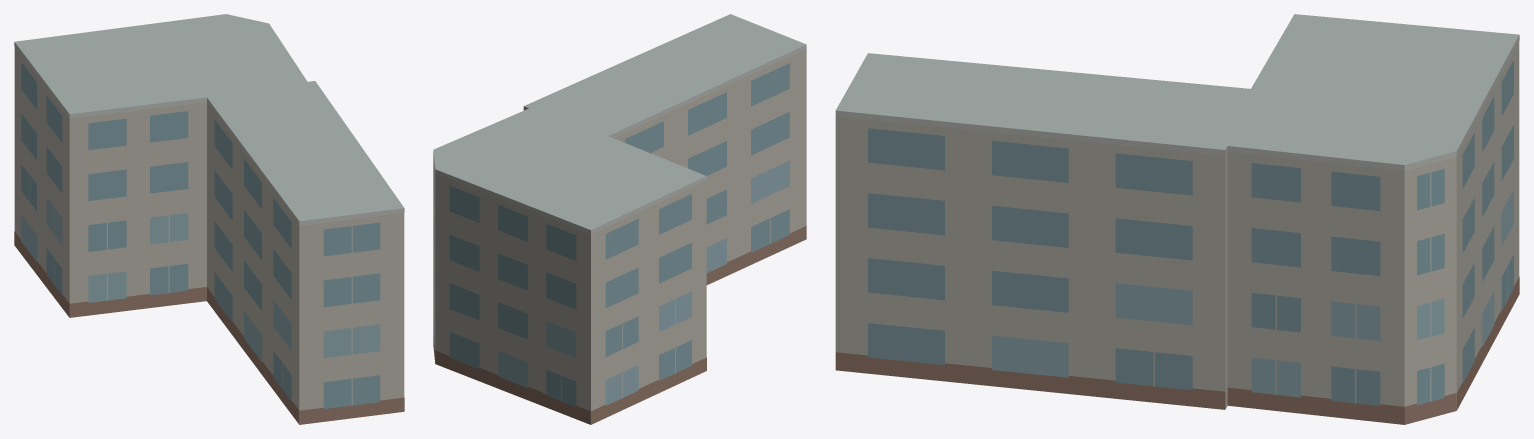
The model's file is survey-upis-32666739.glb.
The picture shows the model from 3 angles, left to right: view 1: azimuth 30°, elevation 25°; view 2: azimuth 150°, elevation 25°; view 3: azimuth 270°, elevation 25°; orthographic projection. The views are drawn at different scales.
Parts seen in each view (by area): view 1: survey-upis-32666739.tmp; view 2: survey-upis-32666739.tmp; view 3: survey-upis-32666739.tmp.
Part boxes in pixels (left/top/right/bottom): survey-upis-32666739.tmp: left=14, top=14, right=404, bottom=424; survey-upis-32666739.tmp: left=433, top=14, right=806, bottom=424; survey-upis-32666739.tmp: left=835, top=14, right=1519, bottom=424.
Bounding box in the file's own units: 13.48 × 10.8 × 25.78.
